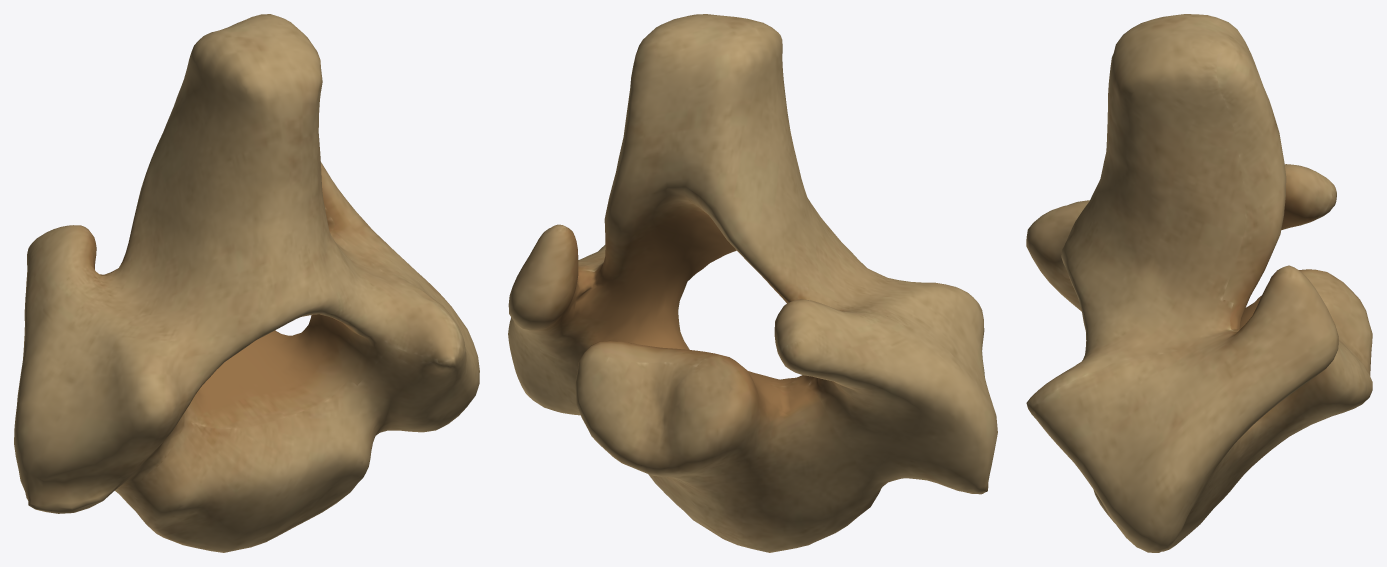
3 renders of one model, left to right at view 1: azimuth 30°, elevation 25°; view 2: azimuth 150°, elevation 25°; view 3: azimuth 270°, elevation 25°, orthographic. The views are drawn at different scales.
Visible parts, largest first — view 1: ZBrush_defualt_group.009; view 2: ZBrush_defualt_group.009; view 3: ZBrush_defualt_group.009.
Boxes of the visible parts, x1=… form: ZBrush_defualt_group.009: x1=14, y1=14, x2=479, y2=552; ZBrush_defualt_group.009: x1=508, y1=14, x2=997, y2=552; ZBrush_defualt_group.009: x1=1026, y1=14, x2=1372, y2=552.
Size of the model in its own units: 57.78 by 60.83 by 36.41.
Materials: 1 (1 with a texture image).
